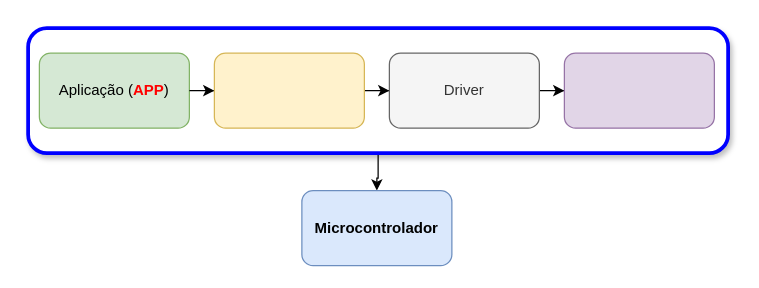
Image size: 759x288. Some labels were removed from this diagram. The centre of each missing label's shape, as x and y in pixels:
Hardware Abstraction Layer (HAL): (638,90)
Interface de Programação da Aplicação (API): (288,90)
